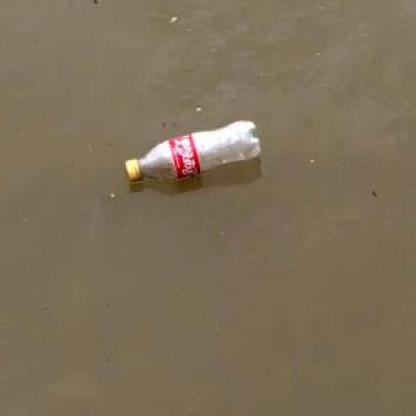plastic bottle: (125, 119, 263, 183)
